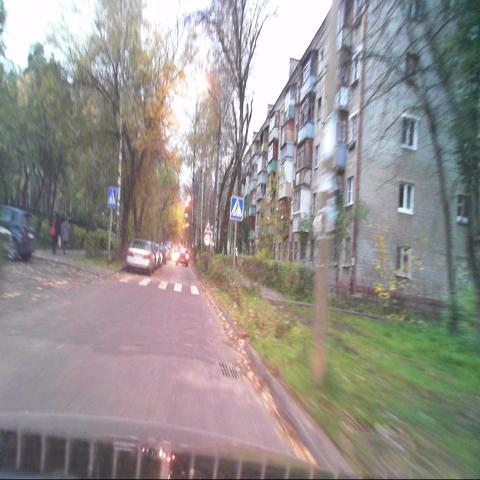1_23: (204, 220, 211, 234)
3_24: (204, 234, 210, 245)
5_19_1: (229, 196, 244, 222), (108, 186, 116, 208)
